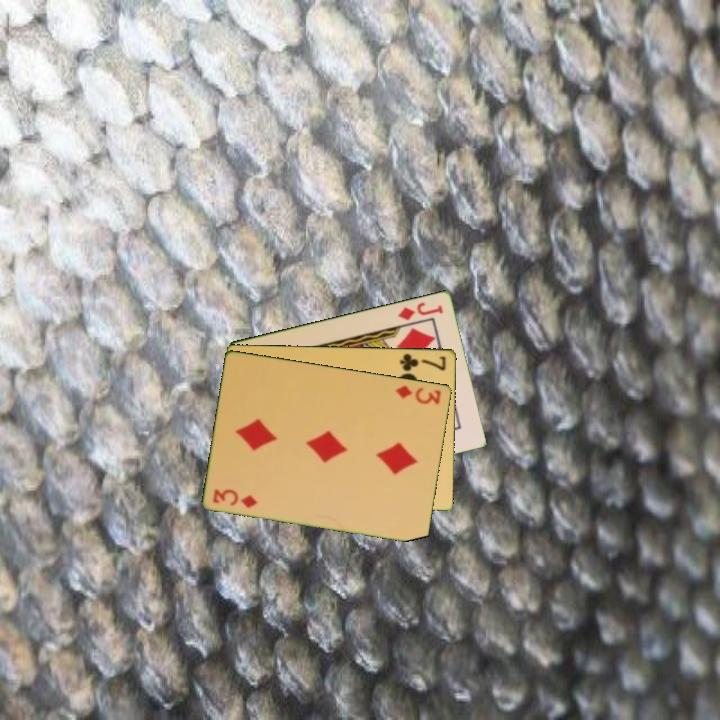3d: (392, 381, 444, 407), (209, 485, 260, 510)
7c: (397, 350, 449, 374)
Jd: (395, 298, 446, 323)
